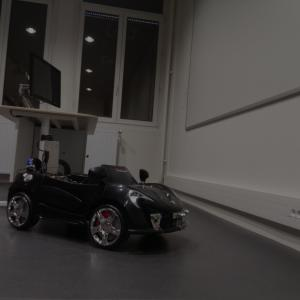big: (1, 159, 190, 250)
